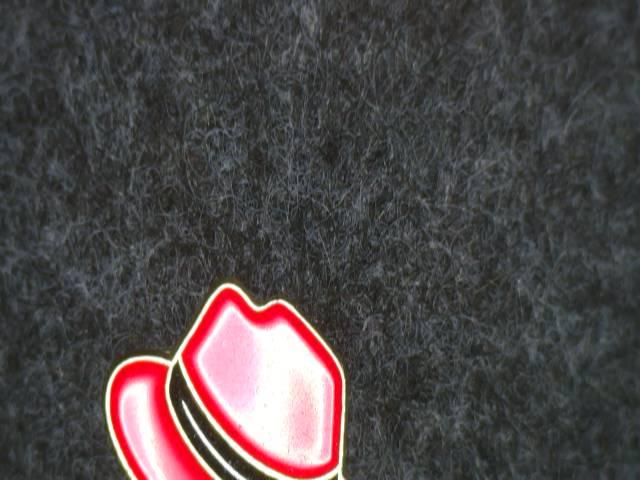Red-Hat: (86, 262, 371, 480)
